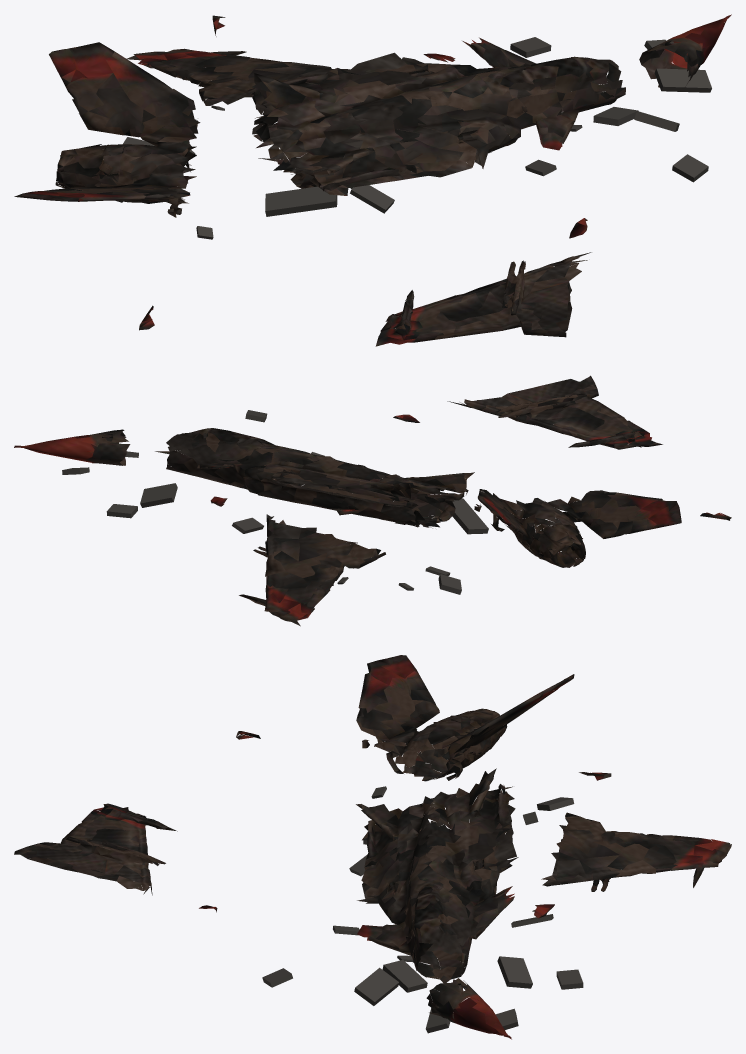
Rendered from b11_wreck_plane.glb.
3 views of the same model, one above another, from view 1: azimuth 30°, elevation 25°; view 2: azimuth 150°, elevation 25°; view 3: azimuth 270°, elevation 25° (orthographic). The views are drawn at different scales.
Parts seen in each view (by area): view 1: GLTF, tail, wing_r, wing_l, nose, Cube.014, Cube.013, Cube.017, Cube.015, Cube.002, Cube.007; view 2: GLTF, tail, wing_l, wing_r, nose, Cube.014, Cube.009; view 3: GLTF, tail, wing_l, wing_r, nose, Cube.004, Cube.009, Cube.002.
Boxes of the visible parts, left/top/right/bottom form: GLTF: left=247, top=37, right=625, bottom=195; tail: left=14, top=15, right=225, bottom=330; wing_r: left=375, top=218, right=591, bottom=346; wing_l: left=126, top=48, right=455, bottom=105; nose: left=639, top=14, right=731, bottom=88; Cube.014: left=265, top=186, right=337, bottom=216; Cube.013: left=654, top=68, right=711, bottom=92; Cube.017: left=350, top=185, right=394, bottom=213; Cube.015: left=672, top=154, right=708, bottom=182; Cube.002: left=593, top=107, right=638, bottom=125; Cube.007: left=510, top=37, right=551, bottom=57; GLTF: left=155, top=428, right=474, bottom=528; tail: left=335, top=489, right=731, bottom=567; wing_l: left=210, top=496, right=385, bottom=626; wing_r: left=393, top=375, right=662, bottom=449; nose: left=14, top=429, right=130, bottom=465; Cube.014: left=452, top=498, right=488, bottom=534; Cube.009: left=140, top=483, right=177, bottom=507; GLTF: left=356, top=768, right=518, bottom=983; tail: left=236, top=655, right=611, bottom=781; wing_l: left=532, top=812, right=731, bottom=918; wing_r: left=14, top=803, right=217, bottom=912; nose: left=426, top=978, right=511, bottom=1039; Cube.004: left=354, top=967, right=398, bottom=1005; Cube.009: left=497, top=956, right=532, bottom=988; Cube.002: left=382, top=960, right=427, bottom=992.
Bounding box in the file's own units: 1 × 0.1595 × 0.8971.
2 materials, 1 textured.
